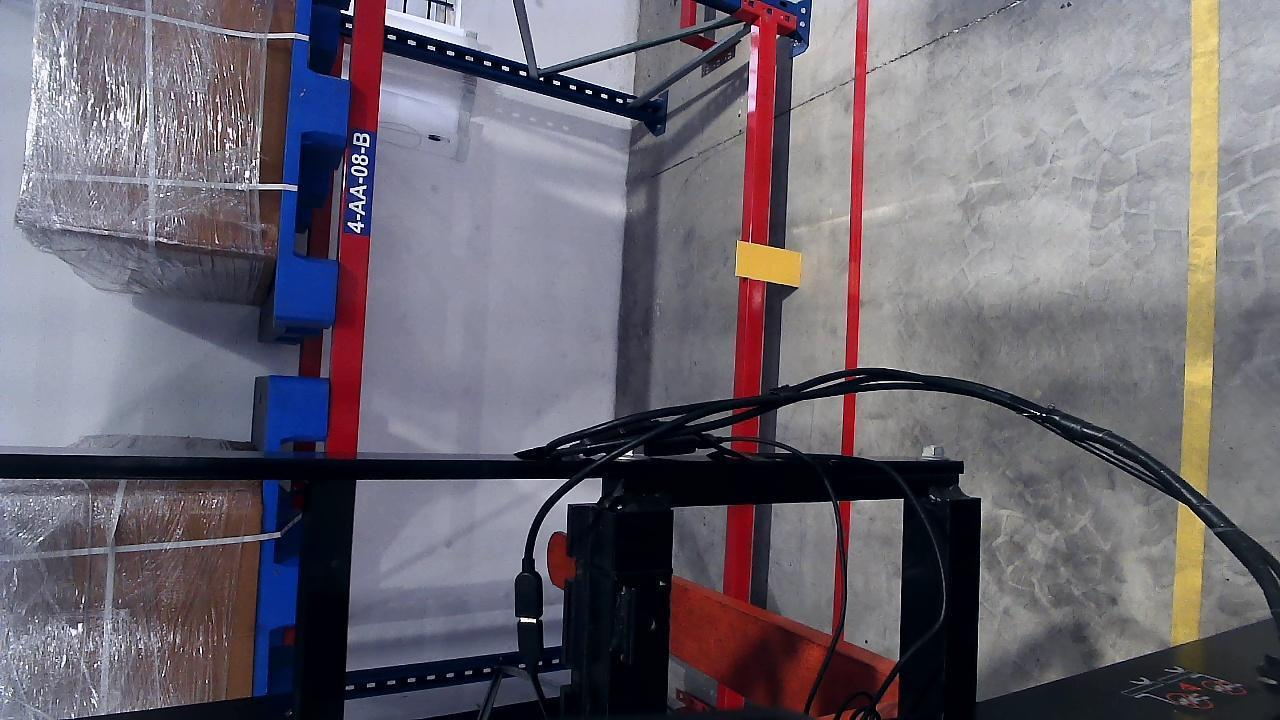red_line: (843, 3, 868, 369)
yellow_line: (1176, 3, 1222, 628)
